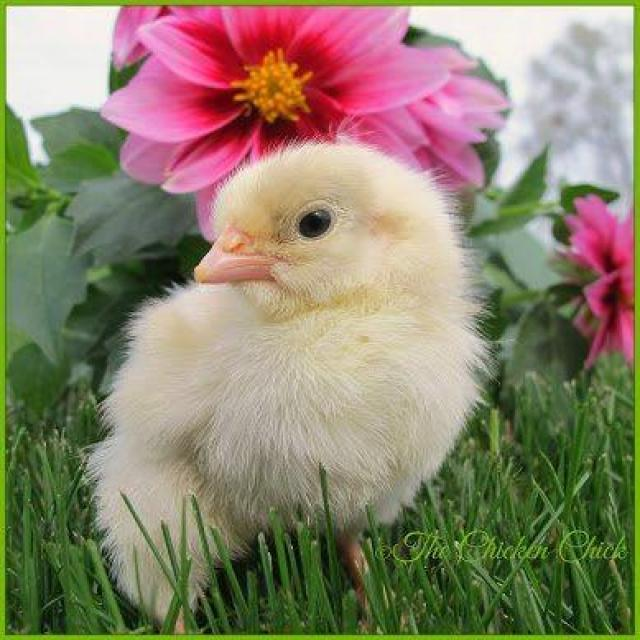poussin: (109, 145, 483, 575)
